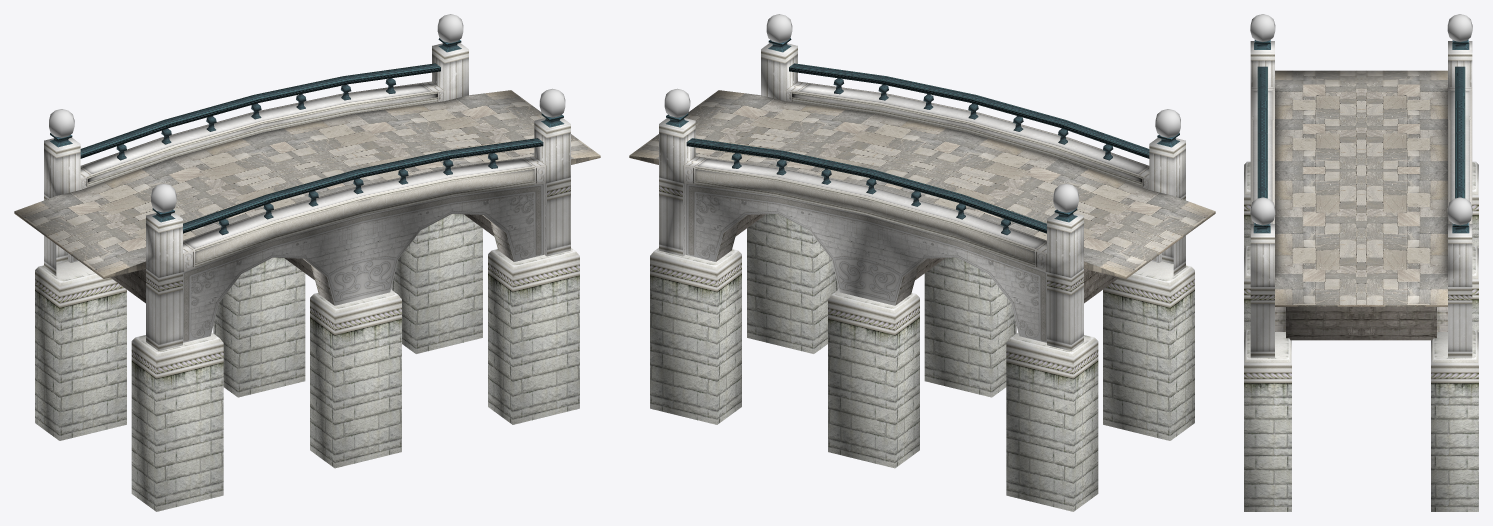
Rendered from bridge.fbx.
3 views of the same model, side by side, from view 1: azimuth 30°, elevation 25°; view 2: azimuth 150°, elevation 25°; view 3: azimuth 270°, elevation 25° (orthographic). The views are drawn at different scales.
Visible parts, largest first — view 1: polySurface33, polySurface34, polySurface30; view 2: polySurface33, polySurface34, polySurface30; view 3: polySurface33, polySurface34, polySurface30.
Boxes of the visible parts, box(x1,y1,x2,y2) form: polySurface33: box(14, 43, 600, 511); polySurface34: box(50, 38, 564, 235); polySurface30: box(49, 14, 565, 212); polySurface33: box(629, 43, 1215, 511); polySurface34: box(665, 38, 1179, 235); polySurface30: box(664, 14, 1180, 212); polySurface33: box(1244, 41, 1478, 511); polySurface34: box(1253, 39, 1469, 233); polySurface30: box(1250, 14, 1472, 225).
Size of the model in its own units: 55.39 by 33.64 by 23.46.
